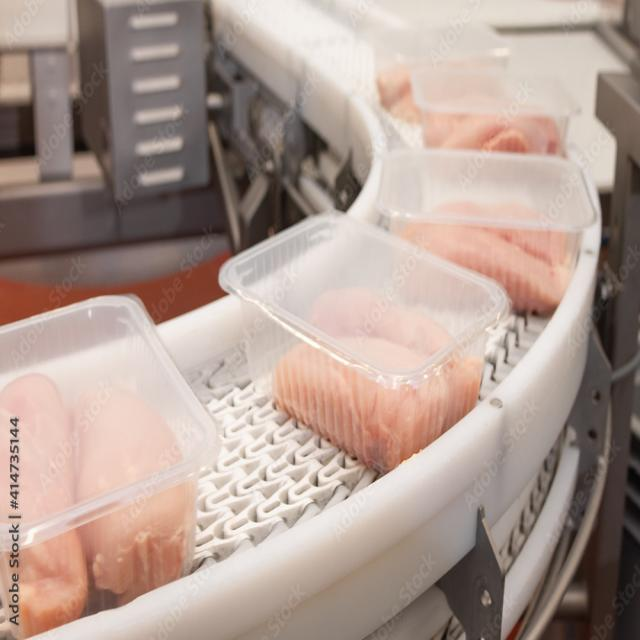food: (216, 208, 513, 474), (0, 290, 224, 636)
